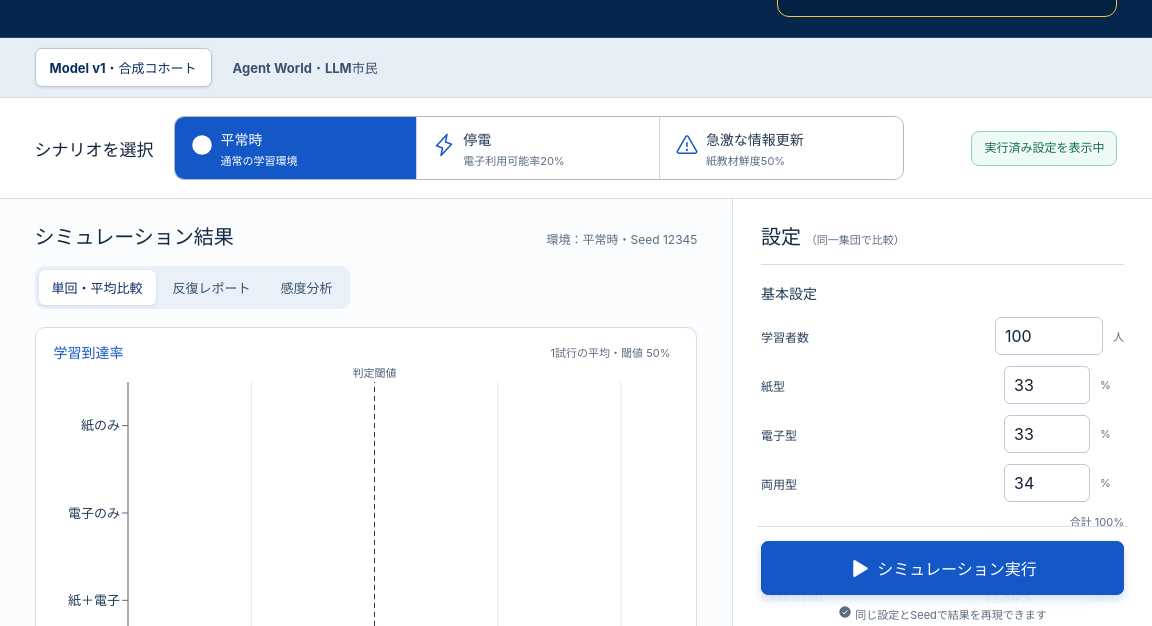
Test: App › opens the local-only LLM citizen lab without mixing it with model v1
The image size is (1152, 626).
Click the button "Agent World・LLM市民" at [305, 68], box x1=218 y1=48 x2=393 y2=87
(page scrolled)
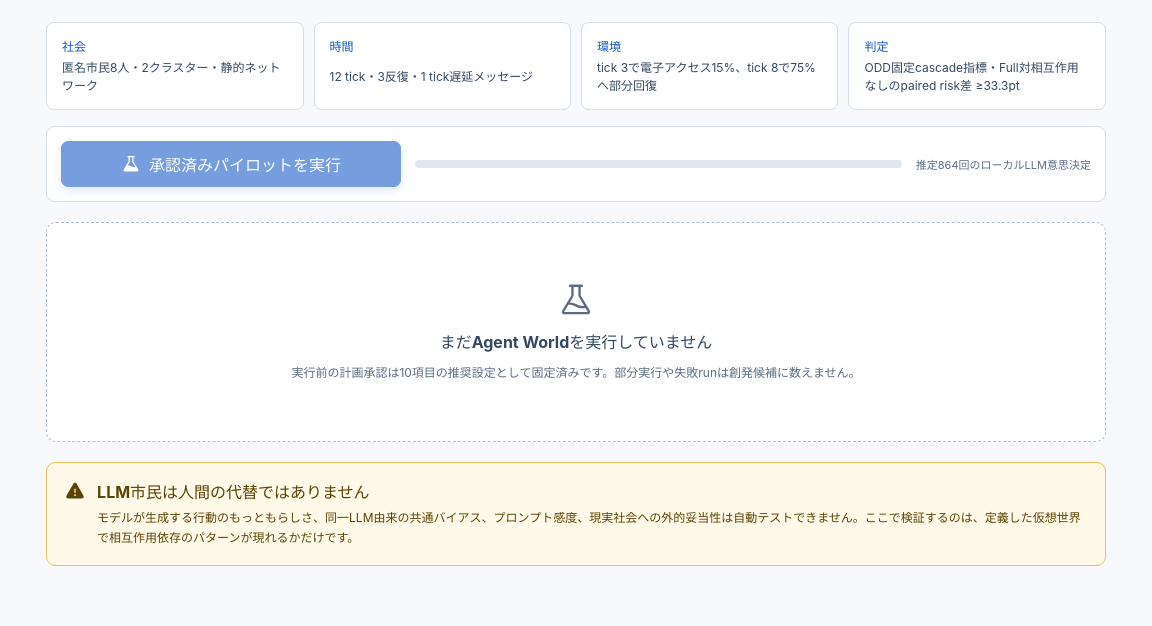
Expected: the text "LLM市民は人間の代替ではありません" is shown, x1=97 y1=482 x2=370 y2=502
Expected: the button "シミュレーション実行" is gone
